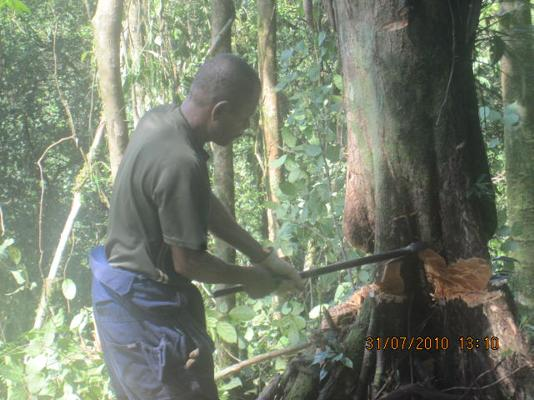person: (89, 52, 311, 400)
